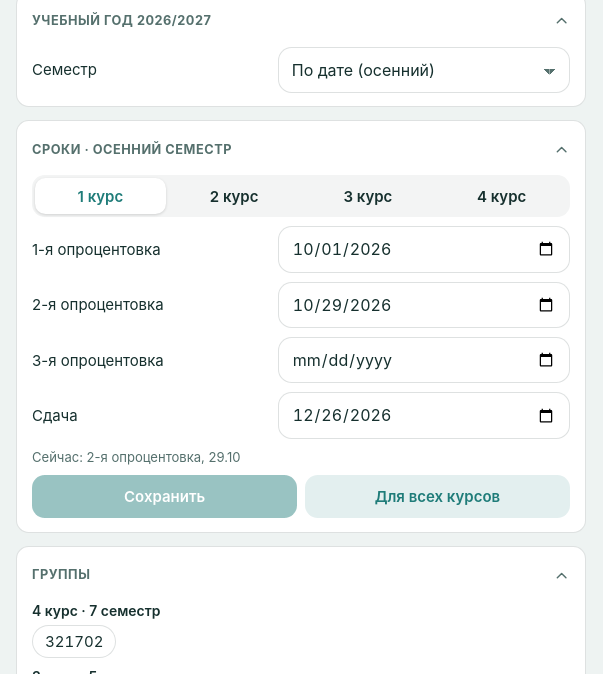
Scenario: администратор › в группе видны студенты и преподаватели; опечатку в имени и группу исправляет без базы
This screenshot has width=603, height=674.
Click the button "321702" at {"x": 74, "y": 642}, box [32, 625, 116, 658]
(page scrolled)
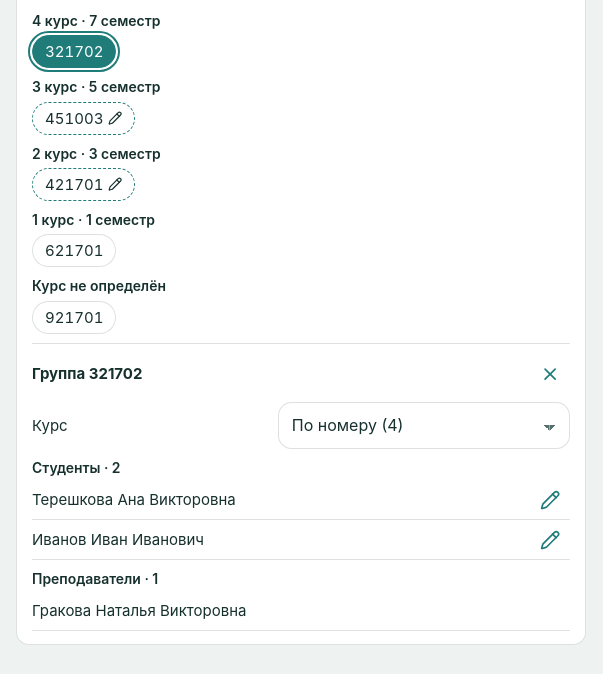
Now the text "Терешкова Ана Викторовна" is shown, box [32, 490, 236, 509]
Now the text "Студенты · 2" is shown, box [32, 459, 120, 476]
Now the text "Гракова Наталья Викторовна" is shown, box [32, 601, 246, 620]
Click the button named "Изменить: Терешкова Ана Викторовна" in the row of "Терешкова Ана Викторовна" at {"x": 550, "y": 500}, box [531, 480, 570, 519]
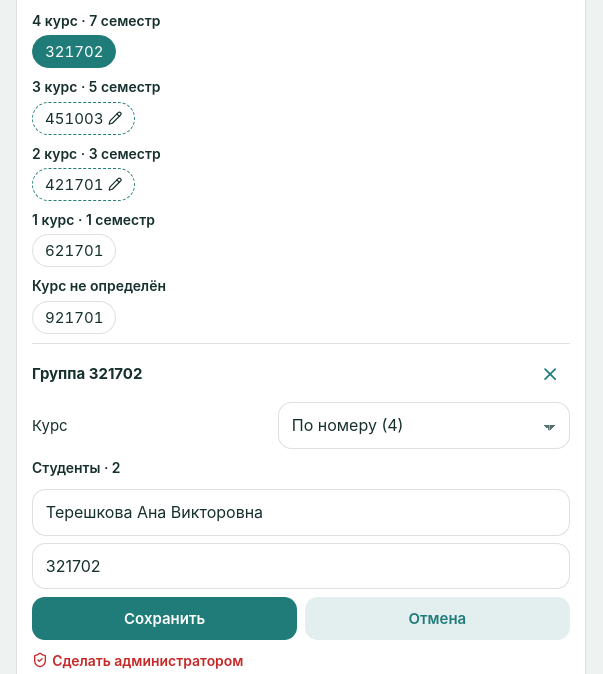
Replace the text in the field named "ФИО" with "Терешкова Анна Викторовна" at {"x": 301, "y": 512}, box [32, 489, 570, 536]
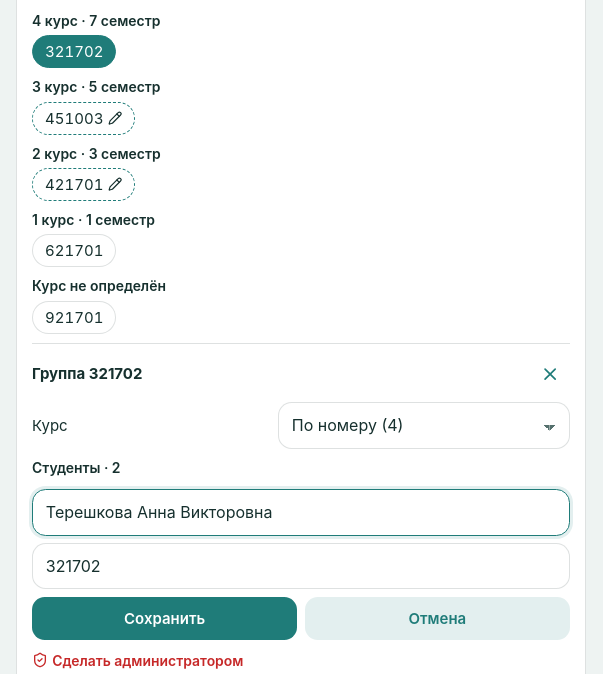
Replace the text in the field named "Группа" with "0" at {"x": 301, "y": 566}, box [32, 543, 570, 590]
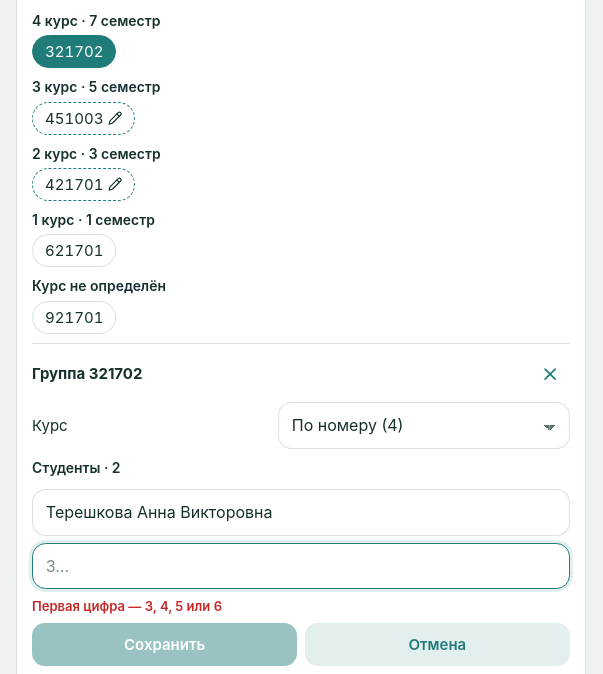
Now the text "Первая цифра — 3, 4, 5 или 6" is shown, box [32, 598, 222, 614]
Type "321701" into the field named "Группа" at {"x": 301, "y": 566}, box [32, 543, 570, 590]
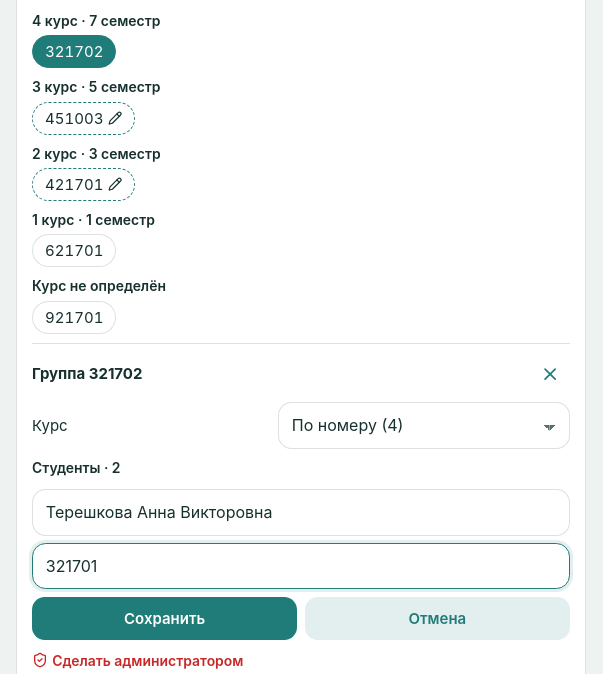
Click the button "Сохранить" below "Студенты" at {"x": 165, "y": 619}, box [32, 597, 297, 640]
(page scrolled)
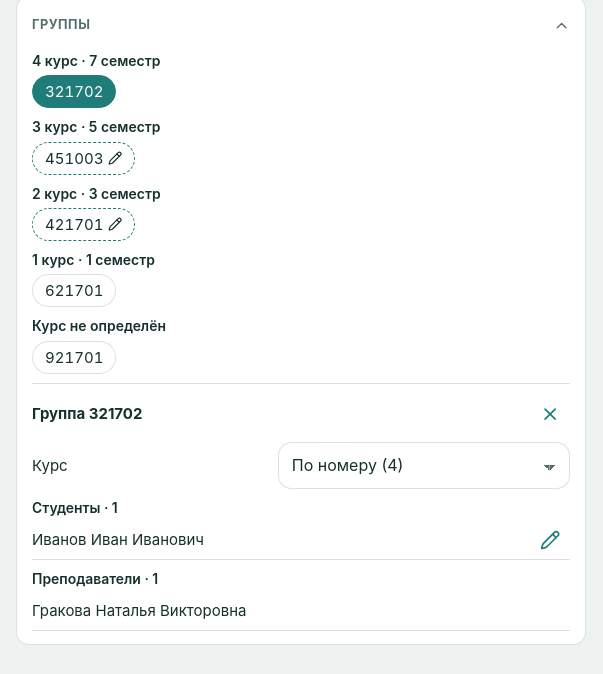
Expected: the text "Терешкова Ана Викторовна" is not shown
Now the field labelled "ФИО" is gone
Now the text "Студенты · 1" is shown, box [32, 499, 118, 516]
